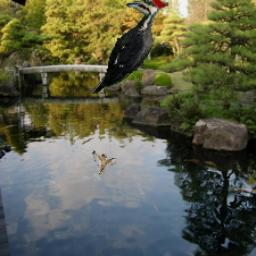Sparrow: (93, 150, 117, 175)
Woodpecker: (91, 0, 170, 95)
